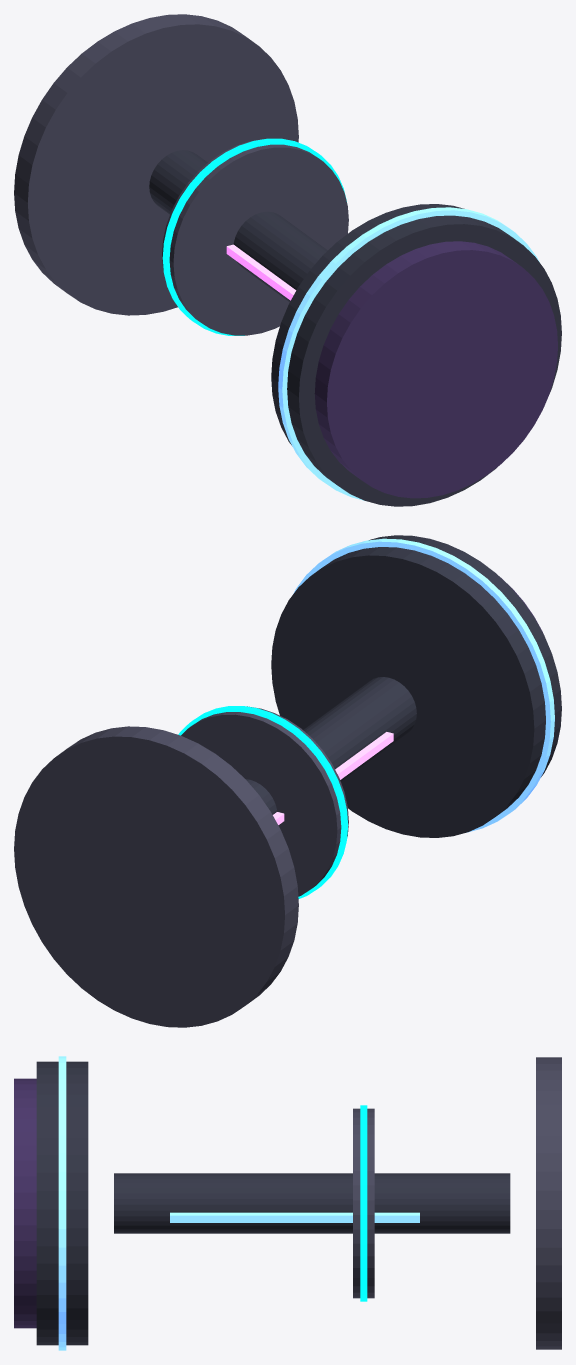
Rendered from pedestal_barstool_electric_blue_purple.glb.
3 renders of one model, top to bottom at view 1: azimuth 30°, elevation 25°; view 2: azimuth 150°, elevation 25°; view 3: azimuth 270°, elevation 25°, orthographic. The views are drawn at different scales.
Parts seen in each view (by area): view 1: base_disc, dark_non_glowing_cushion, footrest_collar_metal, seat_hard_shell, center_pole, seat_outer_trim_band, footrest_trim_band, attached_pole_trim_back; view 2: base_disc, seat_hard_shell, footrest_collar_metal, center_pole, seat_outer_trim_band, footrest_trim_band, attached_pole_trim_back; view 3: center_pole, seat_hard_shell, base_disc, dark_non_glowing_cushion, footrest_collar_metal, seat_outer_trim_band, attached_pole_trim_front, footrest_trim_band.
Boxes of the visible parts, x1,y1,x2,y2 form: base_disc: (14,14,298,315); dark_non_glowing_cushion: (314,241,557,498); footrest_collar_metal: (162,139,348,335); seat_hard_shell: (271,204,561,506); center_pole: (149,150,327,302); seat_outer_trim_band: (278,207,539,500); footrest_trim_band: (162,138,346,335); attached_pole_trim_back: (226,244,296,300); base_disc: (14,726,298,1027); seat_hard_shell: (271,535,561,837); footrest_collar_metal: (181,706,348,896); center_pole: (245,677,416,814); seat_outer_trim_band: (293,538,554,832); footrest_trim_band: (178,706,348,898); attached_pole_trim_back: (273,732,393,824); center_pole: (114,1173,510,1233); seat_hard_shell: (36,1061,88,1345); base_disc: (536,1057,561,1349); dark_non_glowing_cushion: (14,1078,36,1328); footrest_collar_metal: (353,1108,374,1298); seat_outer_trim_band: (58,1056,66,1350); attached_pole_trim_front: (170,1212,419,1222); footrest_trim_band: (360,1105,367,1301).
Size of the model in its own units: 0.684 by 0.684 by 1.27.
